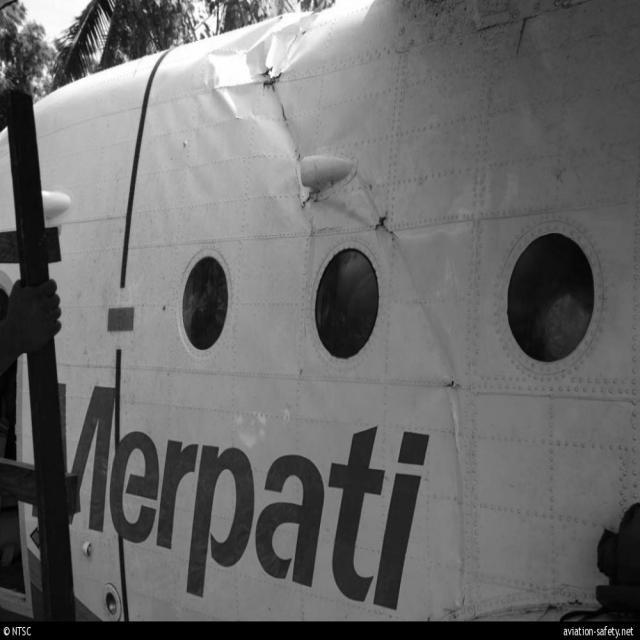crack: (258, 63, 293, 131), (373, 211, 401, 250), (440, 376, 469, 403)
dent: (204, 3, 348, 121)
